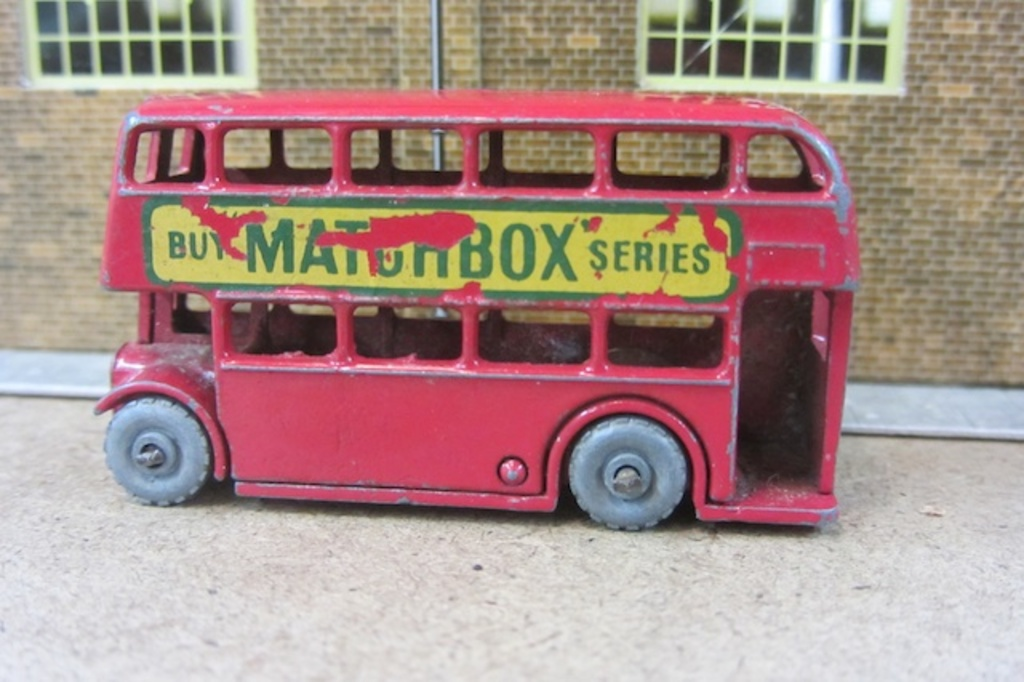Bus: (92, 84, 862, 533)
